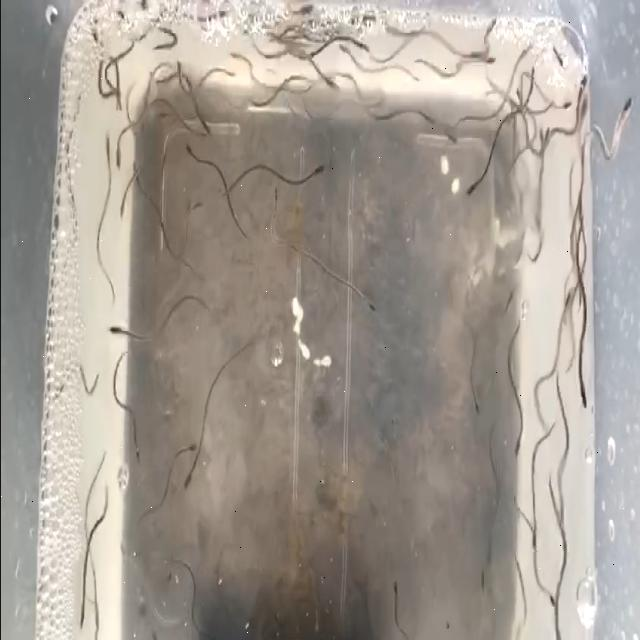inactive_glass_eel: (610, 99, 634, 157), (574, 85, 596, 145), (574, 362, 593, 413), (467, 159, 492, 195), (523, 511, 540, 560), (390, 578, 404, 631), (572, 70, 586, 122), (562, 280, 576, 330), (474, 567, 491, 608), (540, 580, 556, 622), (514, 37, 534, 69), (554, 90, 578, 116), (510, 413, 522, 465), (89, 21, 105, 60), (547, 42, 565, 76), (468, 390, 484, 426), (320, 72, 342, 98), (291, 0, 317, 22), (360, 296, 380, 324), (535, 119, 551, 153), (196, 111, 213, 143), (557, 484, 567, 538), (184, 142, 202, 171), (116, 186, 130, 222), (76, 596, 88, 638), (442, 124, 462, 148), (484, 14, 498, 48), (128, 157, 142, 191), (102, 125, 114, 164), (230, 48, 250, 70), (182, 466, 196, 496), (472, 52, 498, 68), (114, 131, 125, 167), (354, 36, 371, 57), (180, 440, 196, 462), (106, 322, 126, 339), (337, 41, 352, 63), (130, 437, 140, 468), (186, 201, 202, 219), (269, 186, 283, 204), (139, 1, 151, 20), (304, 168, 330, 175)
